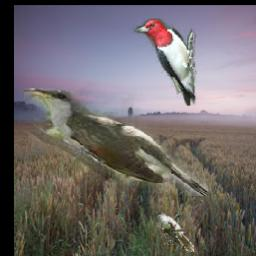Cuckoo: (25, 88, 209, 196), (152, 211, 195, 252)
Woodpecker: (133, 18, 198, 106)
